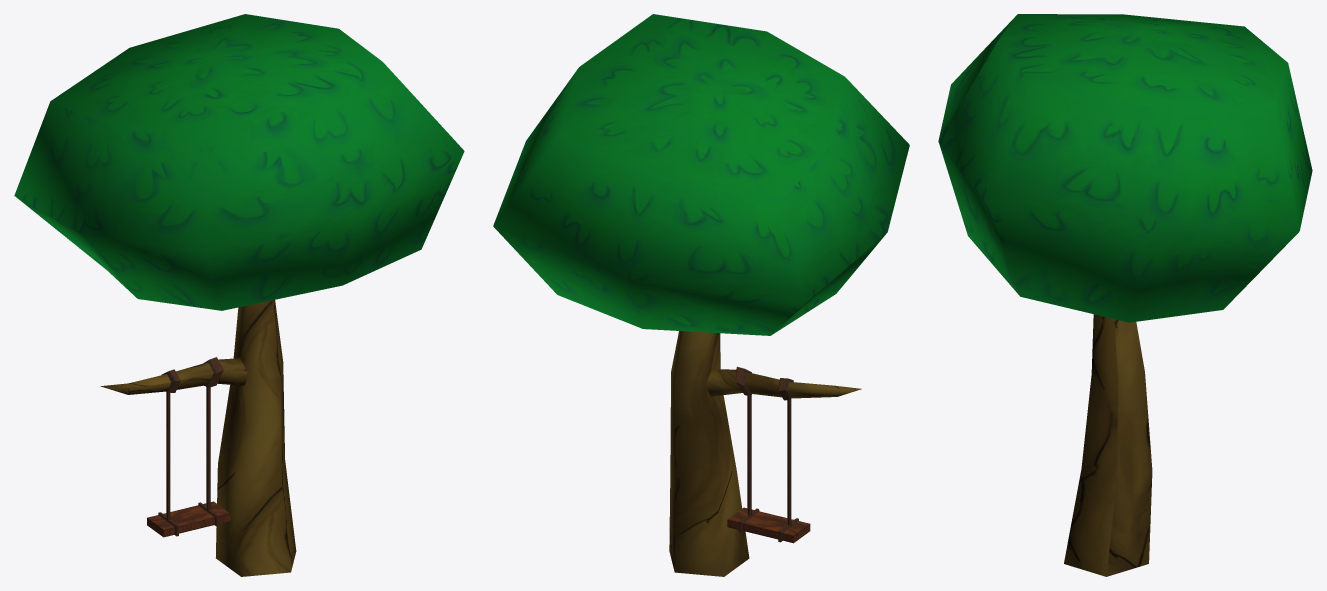
Rendered from swing+Tree.FBX.
The picture shows the model from 3 angles, left to right: view 1: azimuth 30°, elevation 25°; view 2: azimuth 150°, elevation 25°; view 3: azimuth 270°, elevation 25°; orthographic projection. The views are drawn at different scales.
Parts seen in each view (by area): view 1: Leaves_01, Tree_Trunk_03, Box069, Tree_Trunk_004; view 2: Leaves_01, Tree_Trunk_03, Box069, Tree_Trunk_004; view 3: Leaves_01, Tree_Trunk_03.
Boxes of the visible parts, left/top/right/bottom form: Leaves_01: left=14, top=14, right=464, bottom=310; Tree_Trunk_03: left=216, top=300, right=296, bottom=576; Box069: left=147, top=357, right=230, bottom=537; Tree_Trunk_004: left=100, top=358, right=247, bottom=394; Leaves_01: left=493, top=14, right=909, bottom=335; Tree_Trunk_03: left=669, top=331, right=749, bottom=576; Box069: left=727, top=366, right=810, bottom=543; Tree_Trunk_004: left=706, top=369, right=861, bottom=398; Leaves_01: left=938, top=14, right=1312, bottom=322; Tree_Trunk_03: left=1064, top=314, right=1152, bottom=576.
Size of the model in its own units: 12.72 by 17.91 by 11.68.
2 materials, 2 textured.
